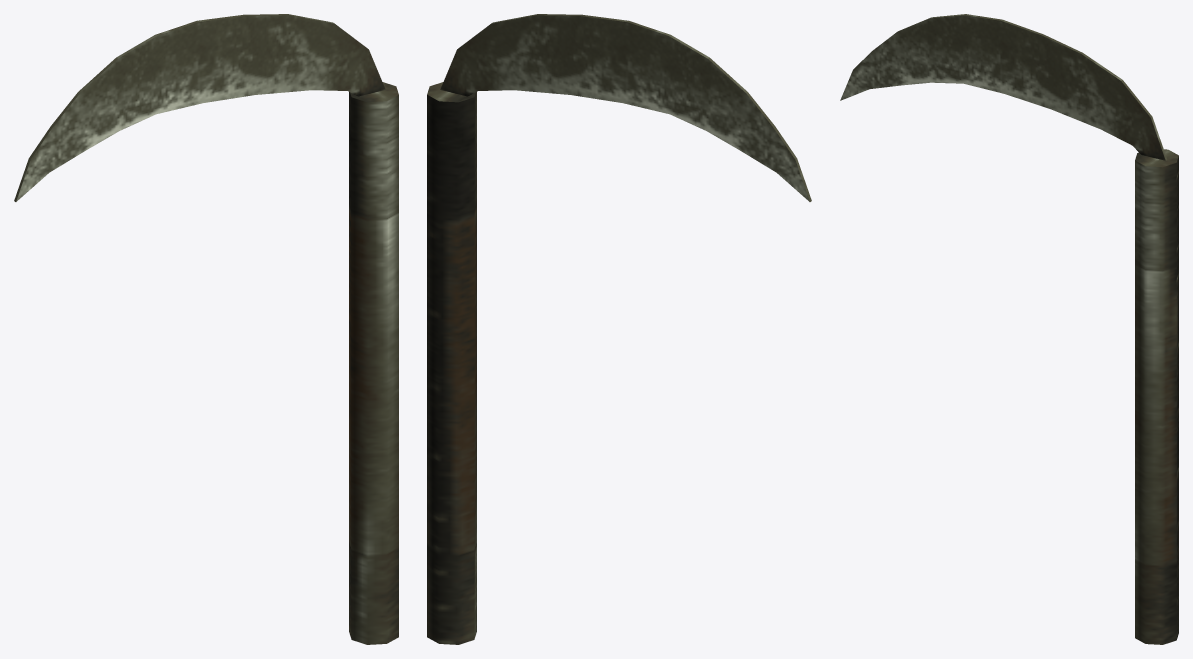
File: sickle.fbx
3 renders of one model, left to right at view 1: azimuth 30°, elevation 25°; view 2: azimuth 150°, elevation 25°; view 3: azimuth 330°, elevation 25°, orthographic. The views are drawn at different scales.
Parts seen in each view (by area): view 1: sickle; view 2: sickle; view 3: sickle.
Part boxes in pixels (x1,y1,x2,y2): sickle: (14,14,398,644); sickle: (427,14,811,644); sickle: (840,14,1178,644).
Size of the model in its own units: 13.63 by 22.4 by 1.6.
Materials: 1 (1 with a texture image).
